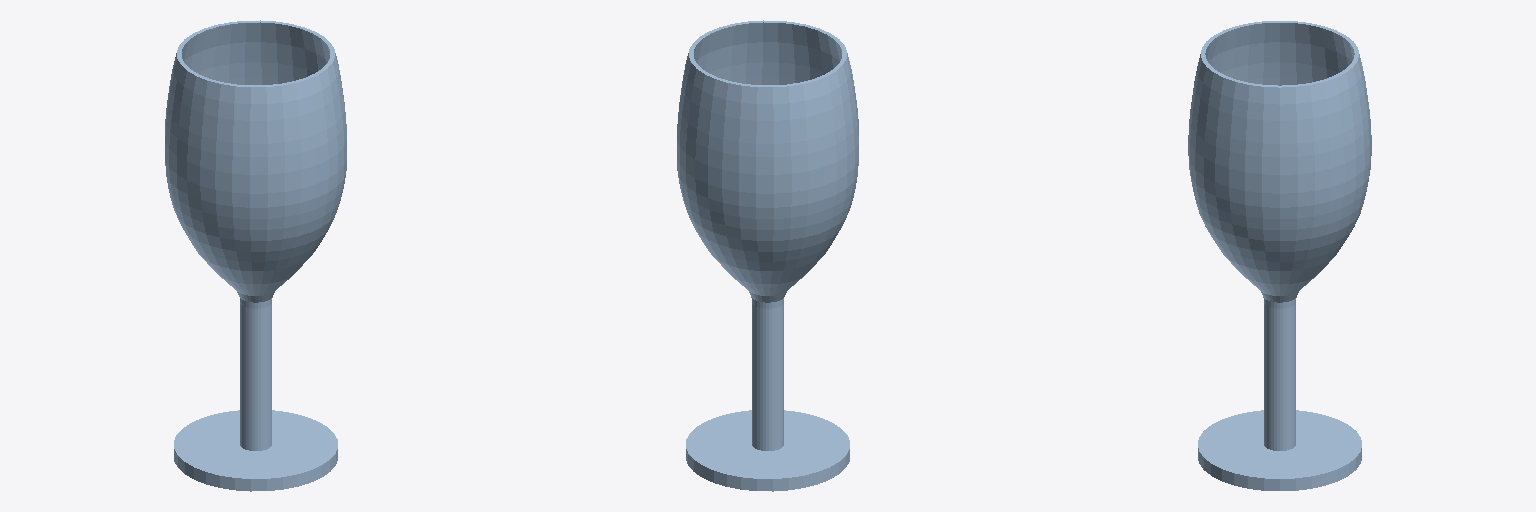
URDF robot description (wineglass.urdf):
<?xml version="1.0" ?>
<robot name="wineglass.urdf">
  <dynamics damping="0.5" friction="0.9"/>
  <link name="baseLink">
    <contact>
      <lateral_friction value="0.9"/>
      <rolling_friction value="0.5"/>
      <stiffness value="30000"/>
      <damping value="1000"/>
    </contact>
    <visual>
      <origin rpy="0 0 0" xyz="0 0 0"/>
      <geometry>
        <mesh filename="wineglass/wineglass.obj" scale="1.0 1.0 1.0"/>
      </geometry>
       <material name="mat">
        <color rgba="0.7 0.8 0.9 1"/>
      </material>
    </visual>
    <collision>
      <origin rpy="0 0 0" xyz="0 0 0"/>
      <geometry>
	 	<mesh filename="wineglass/wineglass.obj" scale="1.0 1.0 1.0"/>
      </geometry>
    </collision>
  </link>
</robot>

--- What the picture shows (computed from the rendered views, not written in the file) ---
The picture shows the robot from 3 angles, left to right: view 1: azimuth 30°, elevation 25°; view 2: azimuth 150°, elevation 25°; view 3: azimuth 270°, elevation 25°; orthographic projection.
Robot: wineglass.urdf — 1 links, 0 joints (none); root link baseLink; default pose: all joints at 0.
Links seen in each view (by area): view 1: baseLink; view 2: baseLink; view 3: baseLink.
Link boxes in pixels (x1=…): baseLink: x1=165, y1=20, x2=346, y2=491; baseLink: x1=677, y1=20, x2=858, y2=491; baseLink: x1=1188, y1=21, x2=1371, y2=490.
Bounding box of the posed robot: 0.0709 × 0.0709 × 0.172 m (x, y, z).
1 mesh visuals loaded from 1 distinct referenced files (1 OBJ).
